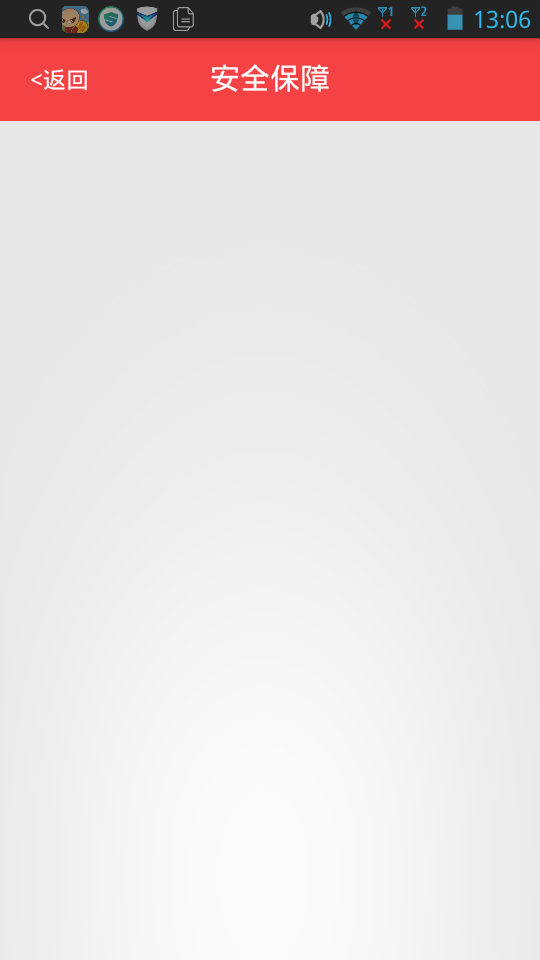button: (16, 57, 100, 101)
